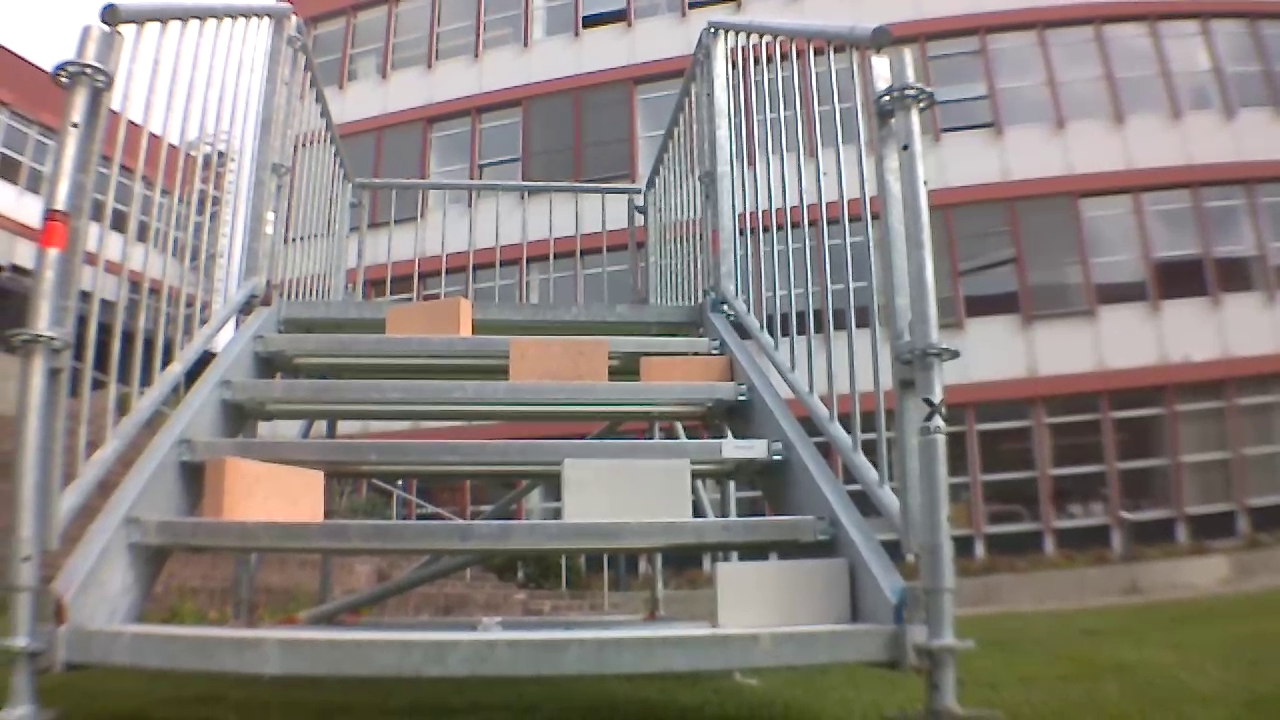brick: (712, 560, 850, 626), (563, 459, 691, 521), (204, 454, 323, 518), (508, 337, 608, 380), (384, 296, 471, 335), (638, 354, 728, 380)
edge: (63, 626, 897, 674), (130, 515, 831, 546), (176, 437, 788, 463), (219, 380, 747, 402), (254, 334, 728, 355), (284, 301, 703, 323)
stairs: (3, 2, 977, 718)
steps: (58, 292, 901, 690)
